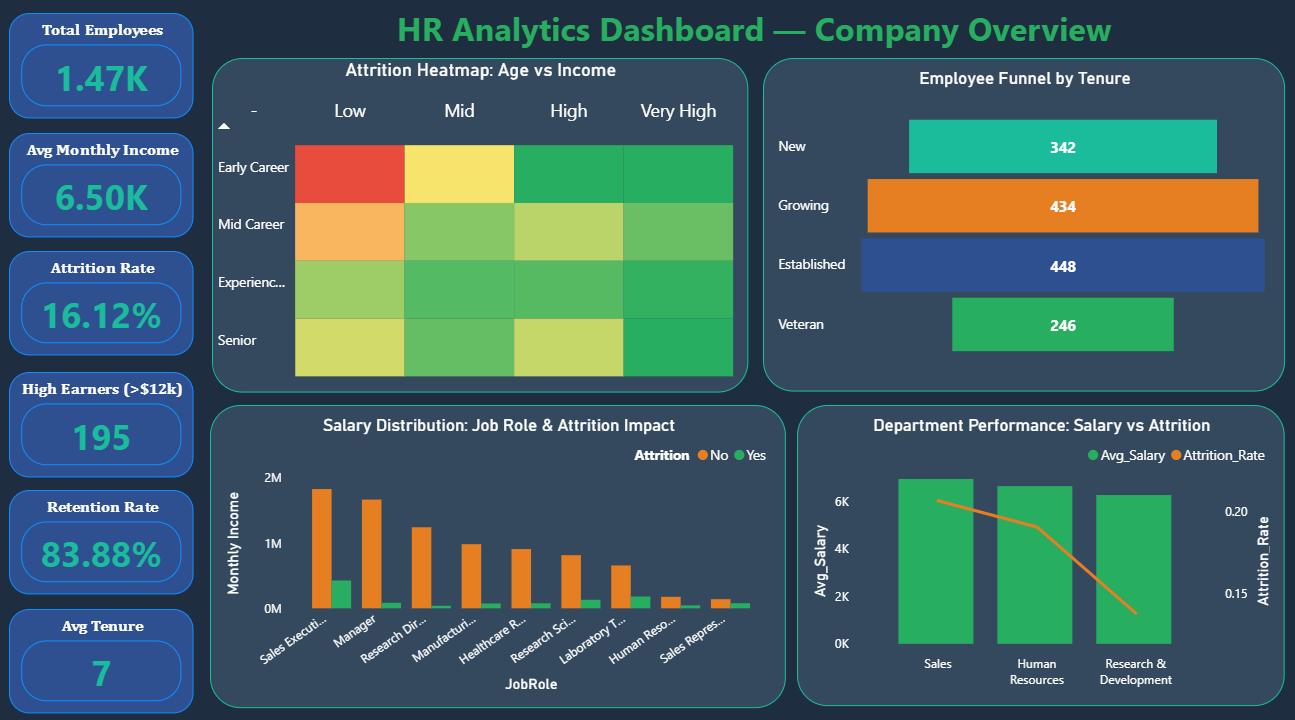

Layout of this report page (visuals, bound fields, positions):
{"tool":"powerbi","page":{"name":"Overview","canvas":[1280,720],"ordinal":0},"visuals":[{"type":"cardVisual","title":"Total Employees","fields":{"Data":["Working_HR.Total_Employees"]},"box":[9.9,15.4,182.4,104.4],"z":0},{"type":"cardVisual","title":"Attrition Rate","fields":{"Data":["Working_HR.Attrition_Rate"]},"box":[9.9,250.5,182.4,103.3],"z":1000},{"type":"cardVisual","title":"Retention Rate","fields":{"Data":["Working_HR.Retention_Rate"]},"box":[9.9,486.7,182.4,103.3],"z":2000},{"type":"cardVisual","title":"High Earners (>$12k)","fields":{"Data":["Working_HR.High_Earners"]},"box":[9.9,370.3,182.4,104.4],"z":3000},{"type":"cardVisual","title":"Avg Tenure","fields":{"Data":["Working_HR.Avg_Tenure_Years"]},"box":[9.9,603.2,182.4,103.3],"z":4000},{"type":"pivotTable","title":"Attrition Heatmap: Age vs Income","fields":{"Rows":["Working_HR.Age_Band"],"Columns":["Working_HR.Income_Band"],"Values":["Working_HR.Attrition_Rate"]},"box":[210.1,60.2,528.7,330.4],"z":5000},{"type":"lineClusteredColumnComboChart","title":"Department Performance: Salary vs Attrition","fields":{"Category":["Working_HR.Department"],"Y":["Working_HR.Avg_Salary"],"Y2":["Working_HR.Attrition_Rate"]},"box":[787.1,402.4,481.3,296.9],"z":6000},{"type":"funnel","title":"Employee Funnel by Tenure","fields":{"Category":["Working_HR.Tenure_Band"],"Y":["CountNonNull(Working_HR.EmployeeNumber)"]},"box":[753.5,60.2,514.8,329.4],"z":7000},{"type":"clusteredColumnChart","title":"Salary Distribution: Job Role & Attrition Impact","fields":{"Category":["Working_HR.JobRole"],"Y":["Sum(Working_HR.MonthlyIncome)"],"Series":["Working_HR.Attrition"]},"box":[208.1,402.4,568.1,298.8],"z":8000},{"type":"textbox","box":[387.6,3,716.1,53.3],"z":9000},{"type":"cardVisual","title":"Avg Monthly Income","fields":{"Data":["Working_HR.Avg_Salary"]},"box":[9.9,134,182.4,103.3],"z":10000}]}

Visuals, with their boxes in screenshot pixels (x1, y1, x2, y2), scaled from the page's 1280x720 canvas onto the 1295x720 screenshot:
"Total Employees" cardVisual: bbox(10, 15, 195, 120)
"Attrition Rate" cardVisual: bbox(10, 250, 195, 354)
"Retention Rate" cardVisual: bbox(10, 487, 195, 590)
"High Earners (>$12k)" cardVisual: bbox(10, 370, 195, 475)
"Avg Tenure" cardVisual: bbox(10, 603, 195, 706)
"Attrition Heatmap: Age vs Income" pivotTable: bbox(213, 60, 747, 391)
"Department Performance: Salary vs Attrition" lineClusteredColumnComboChart: bbox(796, 402, 1283, 699)
"Employee Funnel by Tenure" funnel: bbox(762, 60, 1283, 390)
"Salary Distribution: Job Role & Attrition Impact" clusteredColumnChart: bbox(211, 402, 785, 701)
textbox: bbox(392, 3, 1117, 56)
"Avg Monthly Income" cardVisual: bbox(10, 134, 195, 237)
